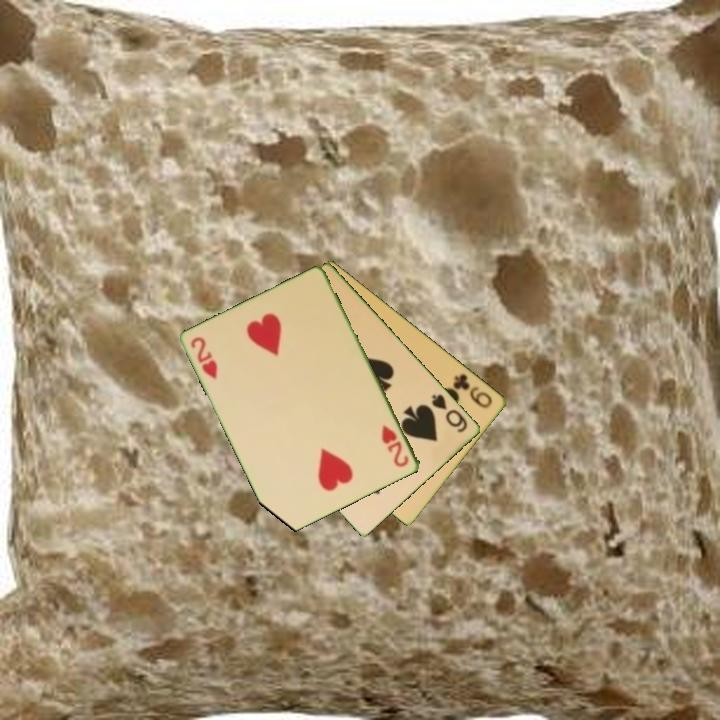2h: (378, 421, 412, 470), (187, 333, 221, 382)
6s: (428, 390, 471, 435)
9c: (450, 370, 496, 411)
